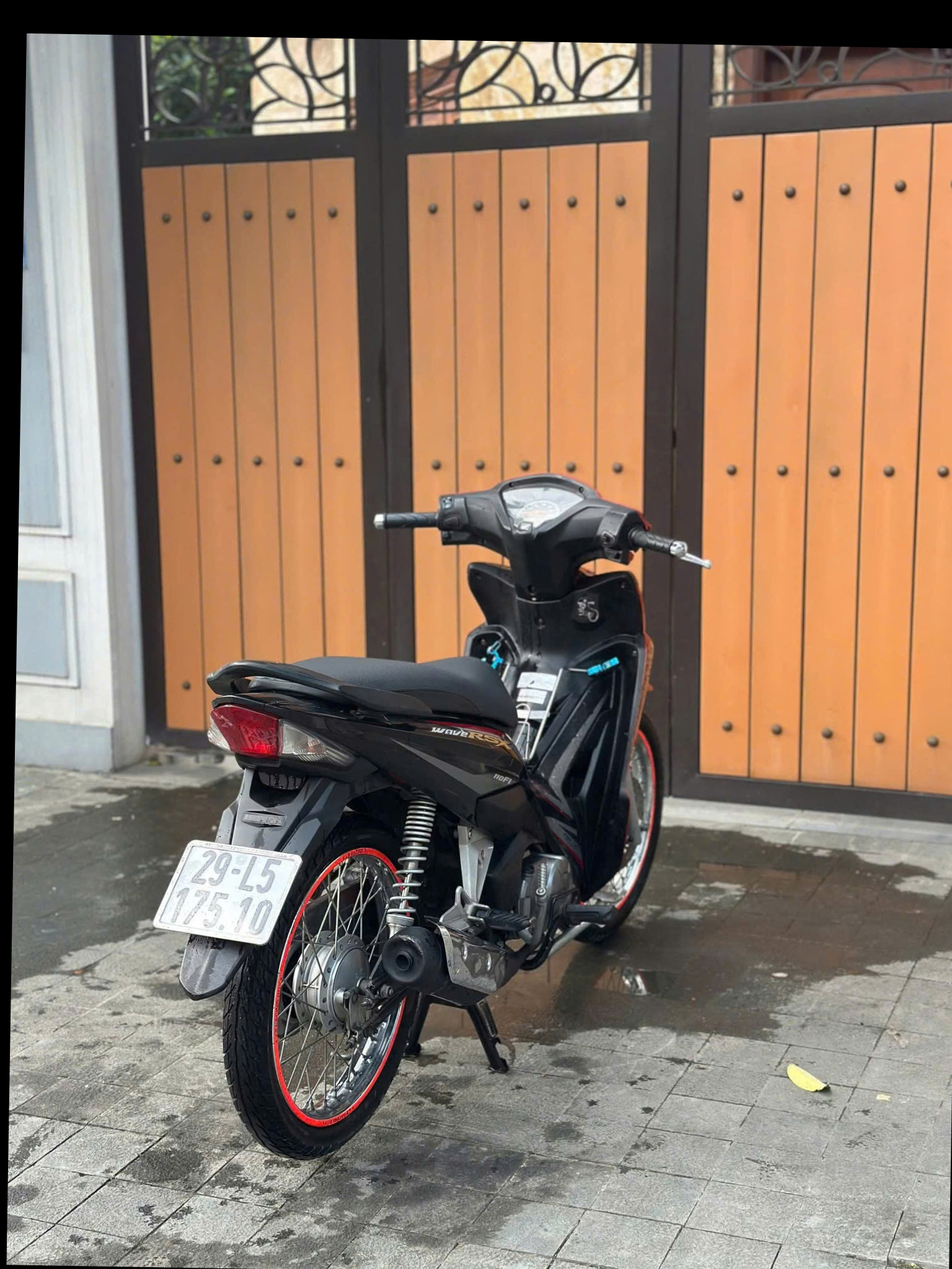Bien-so: (122, 831, 267, 946)
